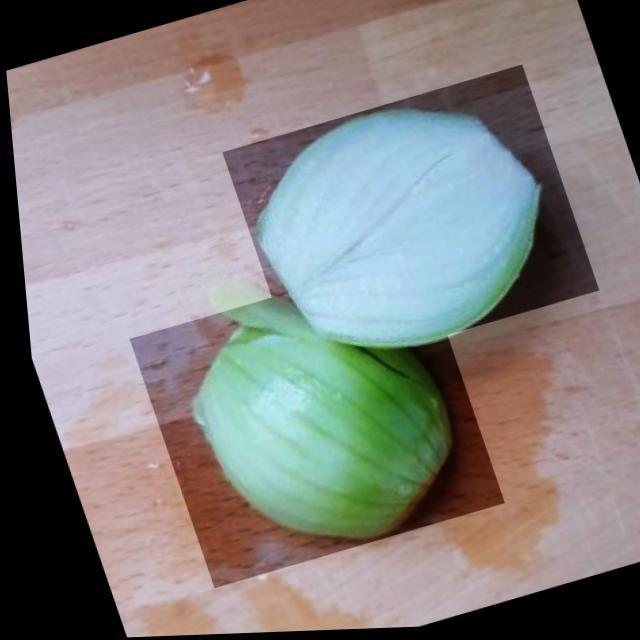Onion: (117, 255, 500, 590), (214, 66, 598, 381)
